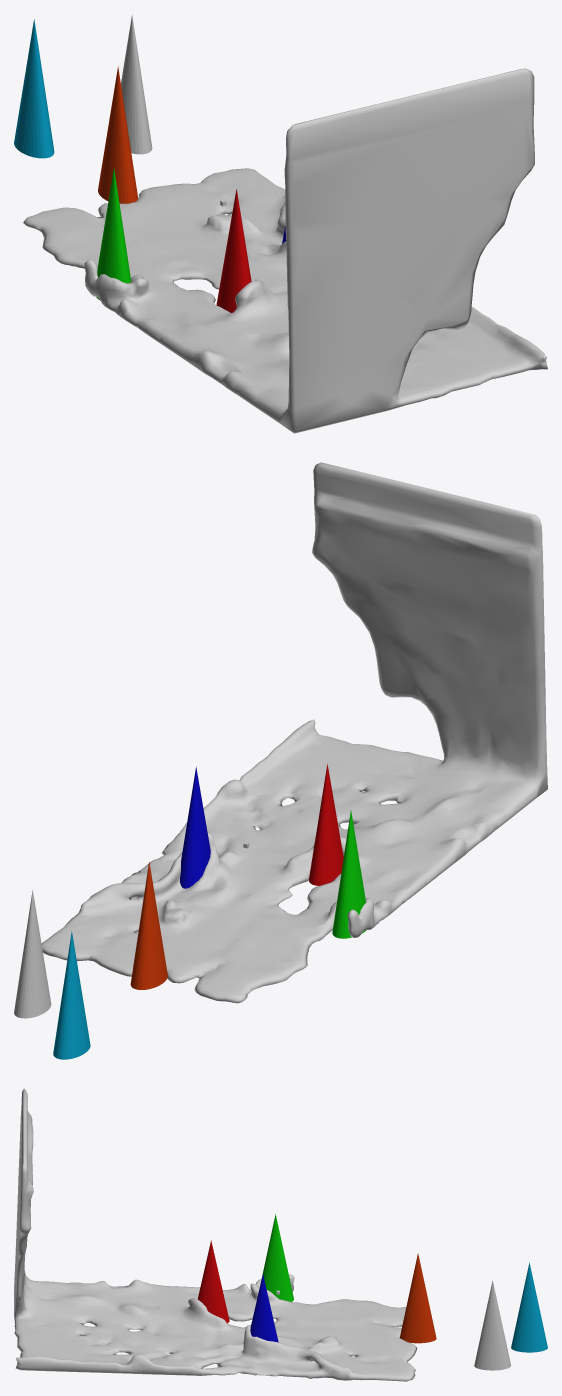
The picture shows the model from 3 angles, top to bottom: view 1: azimuth 30°, elevation 25°; view 2: azimuth 150°, elevation 25°; view 3: azimuth 270°, elevation 25°; orthographic projection. The views are drawn at different scales.
Visible parts, largest first — view 1: Liquid_Domain, 円錐.005, 円錐.004, 円錐, 円錐.001, 円錐.003; view 2: Liquid_Domain, 円錐.005, 円錐, 円錐.004, 円錐.001, 円錐.002, 円錐.003; view 3: Liquid_Domain, 円錐, 円錐.005, 円錐.004, 円錐.003, 円錐.001, 円錐.002.
Part boxes in pixels (x1,y1,x2,y2): Liquid_Domain: [23, 68, 547, 433]; 円錐.005: [14, 19, 54, 158]; 円錐.004: [98, 66, 138, 203]; 円錐: [121, 14, 152, 154]; 円錐.001: [216, 189, 251, 312]; 円錐.003: [96, 168, 131, 300]; Liquid_Domain: [41, 462, 547, 1003]; 円錐.005: [53, 931, 90, 1059]; 円錐: [14, 890, 51, 1018]; 円錐.004: [130, 862, 167, 989]; 円錐.001: [309, 763, 343, 885]; 円錐.002: [180, 766, 210, 888]; 円錐.003: [332, 810, 366, 938]; Liquid_Domain: [14, 1088, 417, 1381]; 円錐: [474, 1280, 510, 1370]; 円錐.005: [511, 1262, 547, 1352]; 円錐.004: [400, 1253, 436, 1343]; 円錐.003: [261, 1214, 293, 1301]; 円錐.001: [198, 1240, 229, 1323]; 円錐.002: [250, 1274, 278, 1342].
Bounding box in the file's own units: 129 × 158 × 347.
